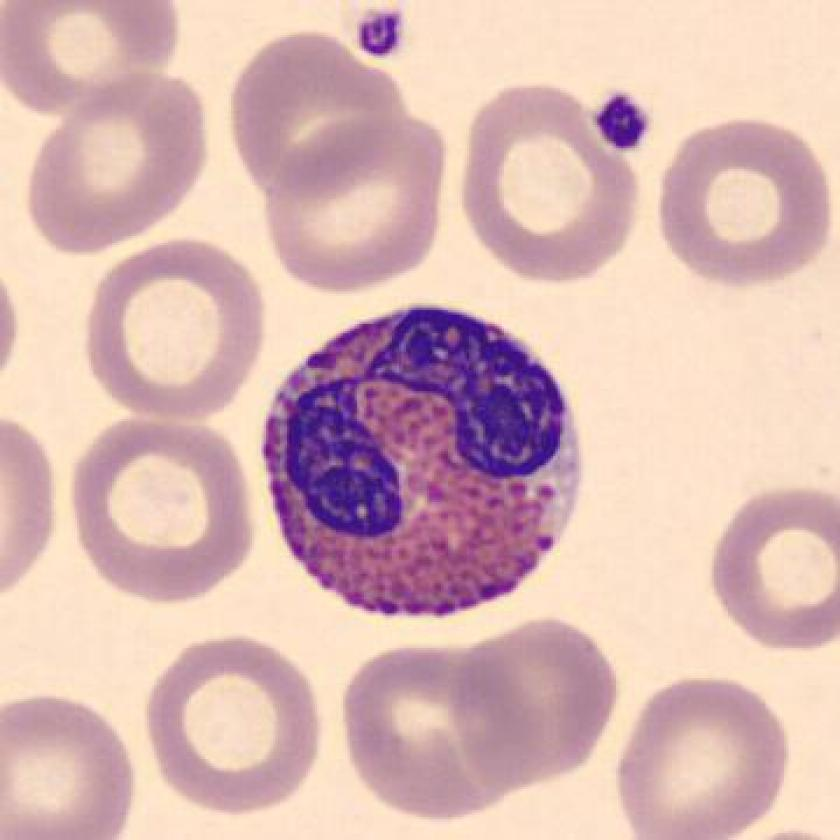eosinophil: (244, 302, 598, 628)
